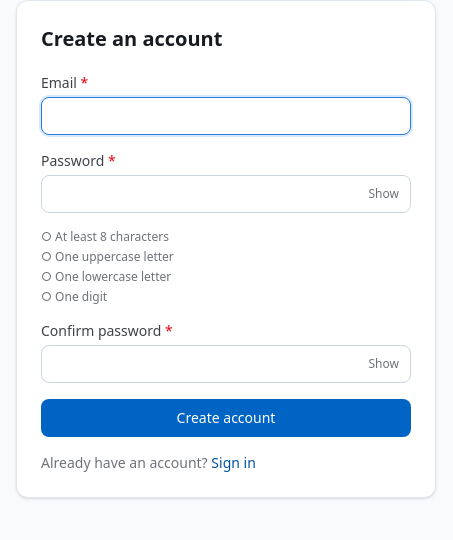
Test: RegisterPage › reports a mismatch under the confirm field
Type "newuser@example.com" into the field labelled "Email *" at (226, 116), box [41, 97, 411, 135]
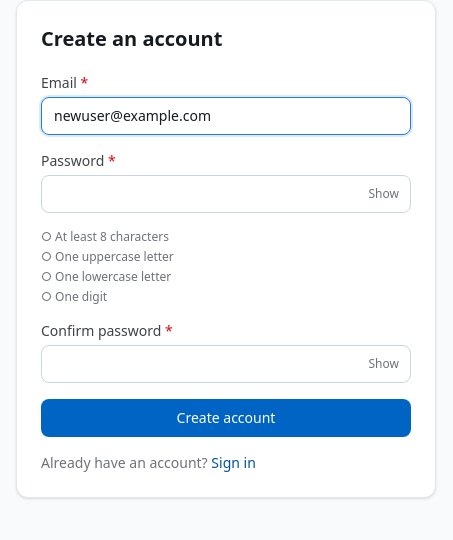
Type "Str0ngPassw0rd" into the password field labelled "Password *" at (226, 194), box [41, 175, 411, 213]
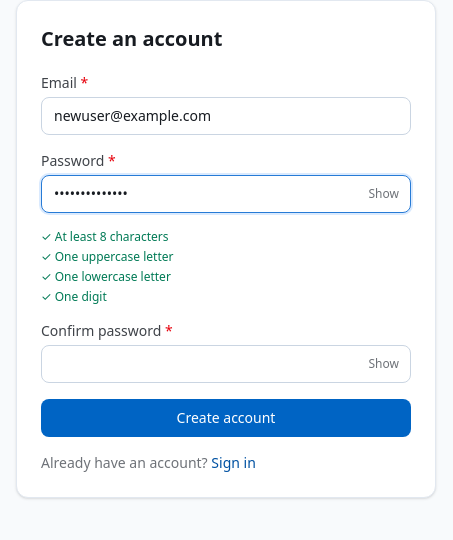
Type "Different1" into the password field labelled "Confirm password *" at (226, 364), box [41, 345, 411, 383]
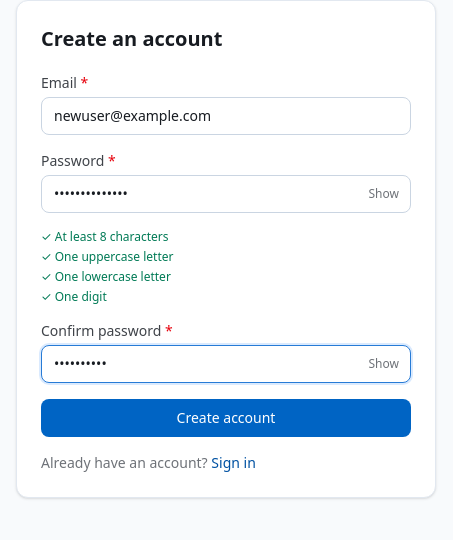
Click the button "Create account" at (226, 418), box [41, 399, 411, 437]
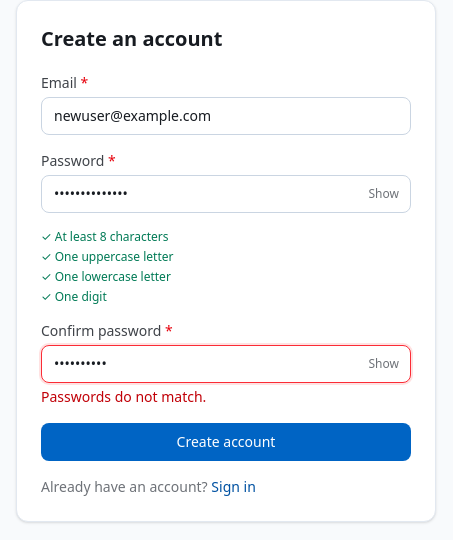
Check: the text "Passwords do not match." is shown, box [41, 387, 206, 406]
